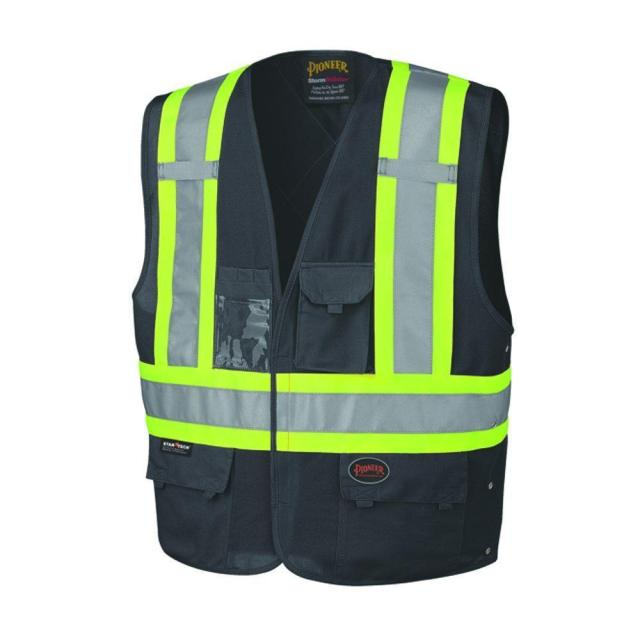Vest: (134, 52, 516, 578)
